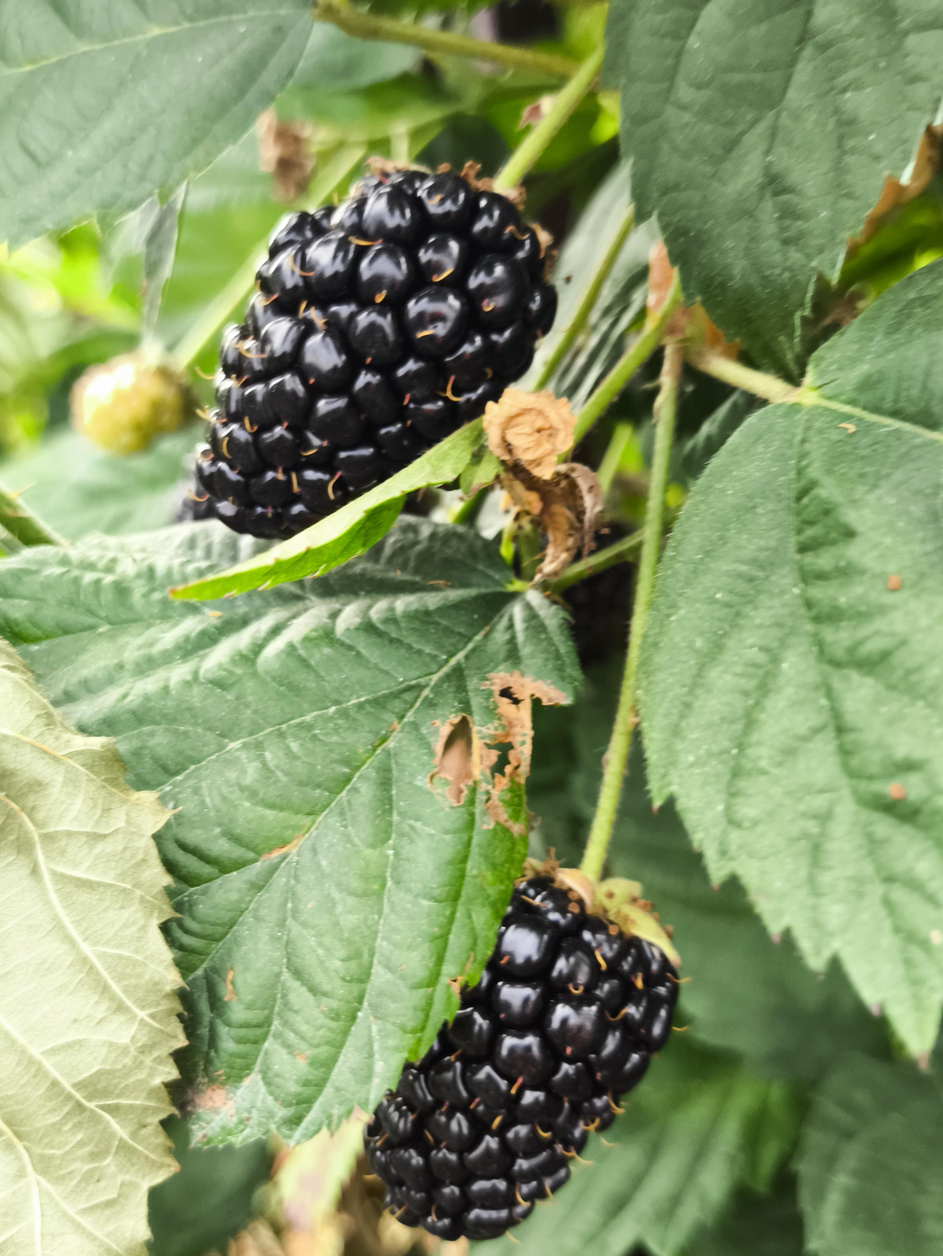maduro: (194, 164, 553, 539), (364, 868, 672, 1239)
